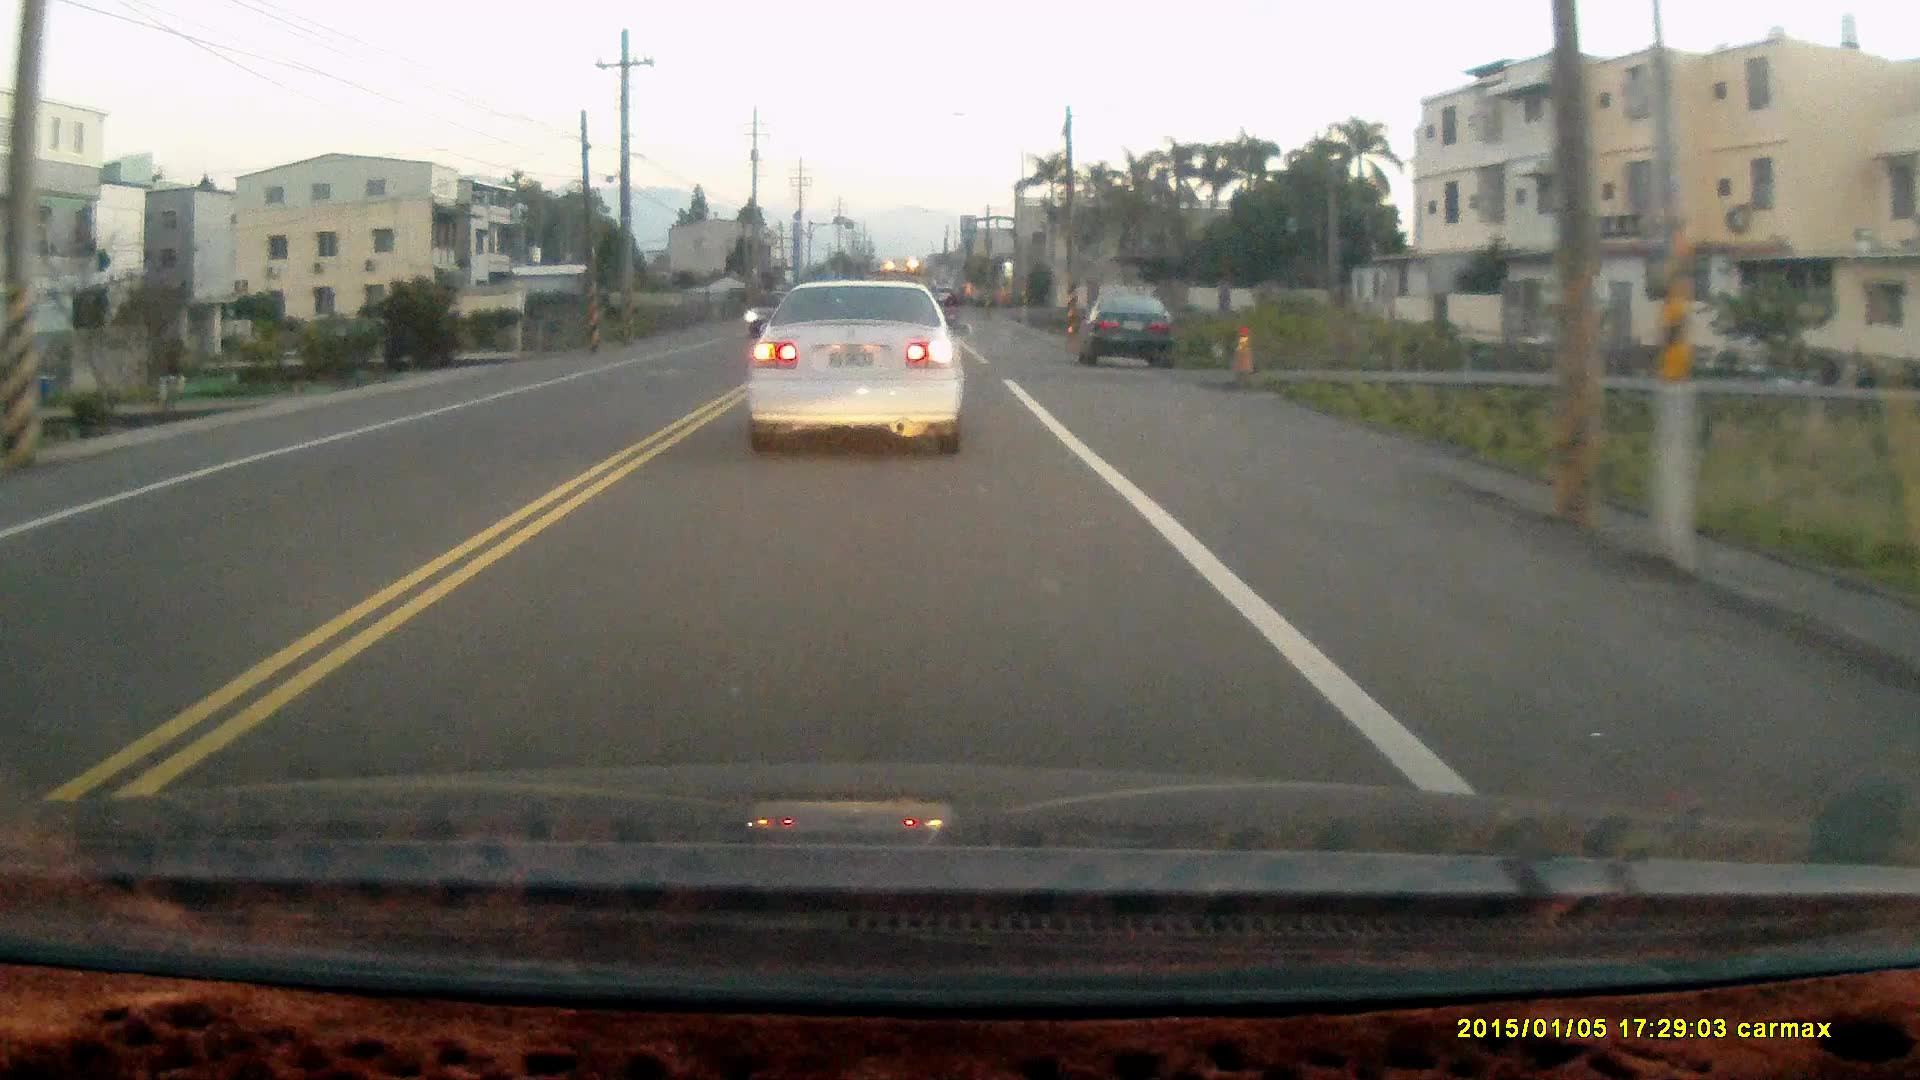vehicle: (746, 277, 967, 460), (1077, 291, 1175, 367), (745, 290, 803, 342)
